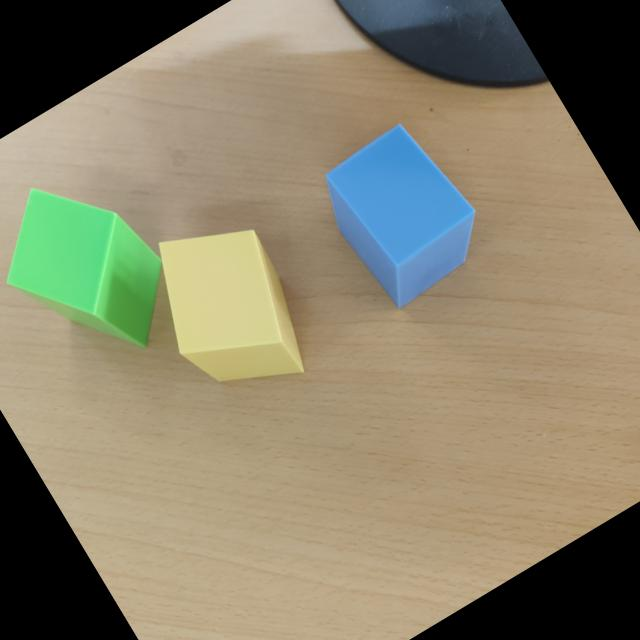blue: (325, 125, 477, 309)
green: (7, 190, 164, 349)
yellow: (159, 230, 305, 384)
